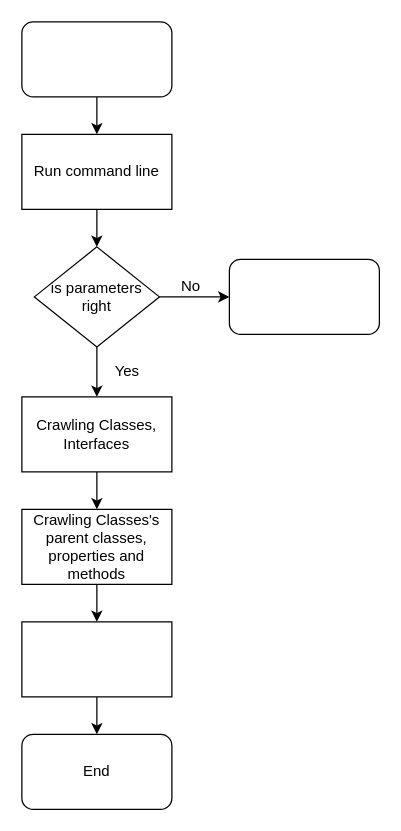
This 401x831 diagram has some shape labels left out. Each missing label, with the centre of its shape:
"Begin" goes at (x=96, y=59).
"Generating PlantUML language text file (Entities, Relationship)" goes at (x=96, y=659).
"Return error message" goes at (x=303, y=296).
